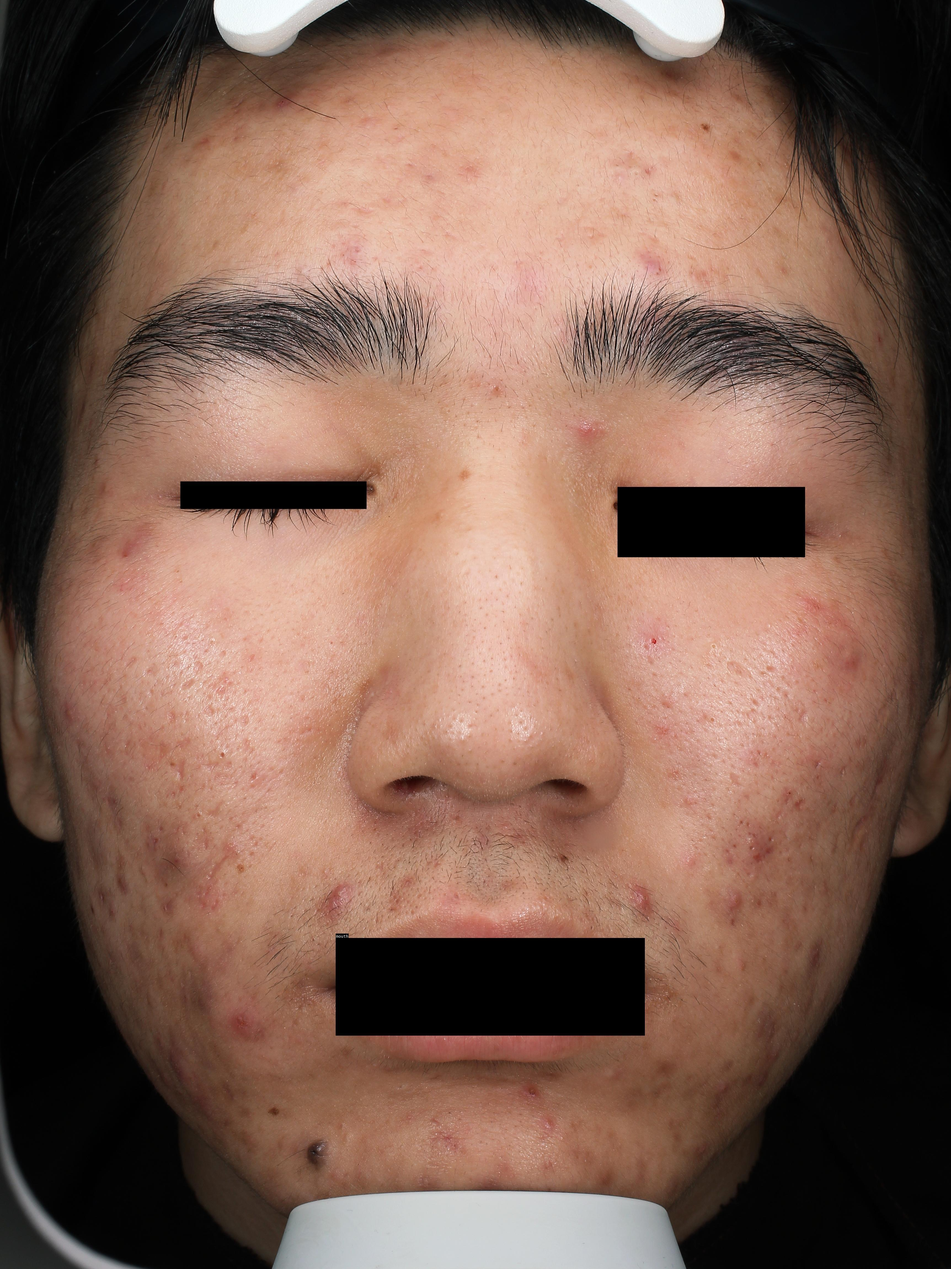atrophic_scar: (142, 812, 188, 897), (204, 759, 249, 820), (75, 739, 100, 804), (787, 812, 821, 854), (847, 808, 872, 856), (387, 887, 427, 917), (396, 246, 439, 273), (874, 686, 899, 732), (162, 651, 203, 678), (107, 784, 127, 838), (185, 823, 214, 860), (203, 670, 235, 702), (871, 753, 892, 798), (112, 851, 131, 898), (204, 852, 235, 880), (161, 708, 194, 731), (84, 828, 101, 872), (725, 660, 756, 683), (736, 709, 764, 730), (794, 701, 811, 728), (170, 757, 186, 784), (154, 741, 173, 762), (723, 715, 745, 733), (837, 756, 854, 779), (202, 702, 225, 719), (159, 896, 178, 916), (141, 662, 162, 680), (194, 881, 206, 911), (174, 738, 195, 755), (830, 827, 842, 855), (728, 771, 745, 790), (122, 655, 140, 671), (440, 229, 463, 241), (231, 120, 249, 134), (376, 192, 395, 205), (766, 662, 781, 678), (542, 1115, 558, 1130), (244, 652, 259, 668), (180, 678, 198, 691), (209, 897, 223, 913), (237, 714, 251, 730), (796, 794, 808, 812), (228, 97, 244, 110), (657, 698, 674, 710), (223, 136, 245, 145), (361, 899, 374, 914), (96, 886, 106, 905), (351, 206, 374, 214), (750, 693, 763, 707), (298, 726, 314, 737), (687, 252, 699, 266), (215, 648, 226, 661), (646, 165, 655, 180), (649, 233, 661, 244), (811, 759, 822, 771), (752, 852, 764, 863), (645, 655, 657, 666), (146, 687, 156, 700), (177, 784, 186, 798), (350, 244, 363, 253), (375, 861, 385, 872), (744, 869, 755, 879), (432, 859, 444, 868), (204, 884, 213, 896), (860, 837, 867, 852), (421, 174, 436, 181), (711, 753, 722, 762), (850, 791, 857, 805), (462, 566, 470, 578), (765, 846, 775, 855), (767, 714, 777, 723), (705, 812, 713, 823), (251, 839, 259, 849), (775, 808, 782, 819), (429, 1118, 441, 1124), (453, 890, 460, 900), (424, 861, 433, 868), (251, 772, 258, 781), (638, 230, 648, 236), (752, 832, 760, 839), (404, 162, 415, 167), (170, 790, 176, 799), (753, 761, 760, 768), (771, 758, 777, 766), (783, 797, 789, 805), (774, 766, 779, 775), (725, 848, 731, 855), (768, 836, 774, 842), (744, 795, 751, 800), (770, 774, 775, 780)
closed_comedo: (585, 227, 596, 240), (667, 192, 678, 202), (615, 173, 624, 182), (746, 836, 755, 844), (715, 943, 723, 951), (299, 266, 307, 274), (322, 867, 329, 875), (665, 992, 672, 999), (459, 737, 466, 743), (437, 717, 443, 723), (522, 739, 527, 743), (434, 724, 438, 728)
hypertrophic_scar: (391, 1082, 411, 1093)
melasma: (456, 467, 473, 481), (832, 553, 846, 567), (339, 1045, 352, 1057), (348, 505, 364, 514)
nevus: (301, 1139, 329, 1170), (265, 1106, 282, 1118), (699, 122, 711, 132), (559, 852, 569, 864)
nodule: (225, 1006, 265, 1043), (167, 1045, 198, 1091)
open_comedo: (490, 383, 504, 398), (218, 750, 228, 759), (709, 643, 718, 651), (446, 1110, 454, 1117), (195, 812, 202, 819), (726, 859, 732, 866), (177, 578, 183, 585), (746, 820, 751, 828), (391, 126, 400, 130), (749, 844, 755, 850), (637, 695, 643, 701), (634, 170, 639, 176), (710, 717, 716, 722), (329, 641, 335, 646), (614, 162, 620, 167), (173, 634, 179, 639), (757, 161, 762, 166), (653, 193, 659, 197), (587, 265, 592, 269), (175, 569, 179, 574), (341, 253, 345, 257), (777, 799, 781, 803), (653, 198, 658, 201)
papule: (631, 884, 651, 916), (727, 888, 745, 911), (198, 1100, 217, 1121), (187, 940, 205, 961), (576, 421, 595, 439), (643, 634, 661, 652), (644, 259, 663, 274), (683, 853, 699, 869), (63, 701, 74, 722), (159, 1071, 171, 1087), (223, 838, 237, 850), (340, 1131, 351, 1146), (607, 1067, 620, 1079), (156, 1036, 166, 1049), (276, 97, 289, 107), (801, 599, 814, 609), (436, 511, 446, 520), (718, 1084, 728, 1093), (758, 1073, 766, 1084), (109, 904, 116, 916), (771, 1049, 778, 1059), (501, 822, 509, 830), (71, 501, 79, 509), (740, 960, 747, 969), (700, 1145, 707, 1154), (102, 484, 108, 493), (876, 335, 882, 342)
pustule: (323, 884, 354, 922), (526, 1085, 539, 1098), (684, 797, 694, 806)
